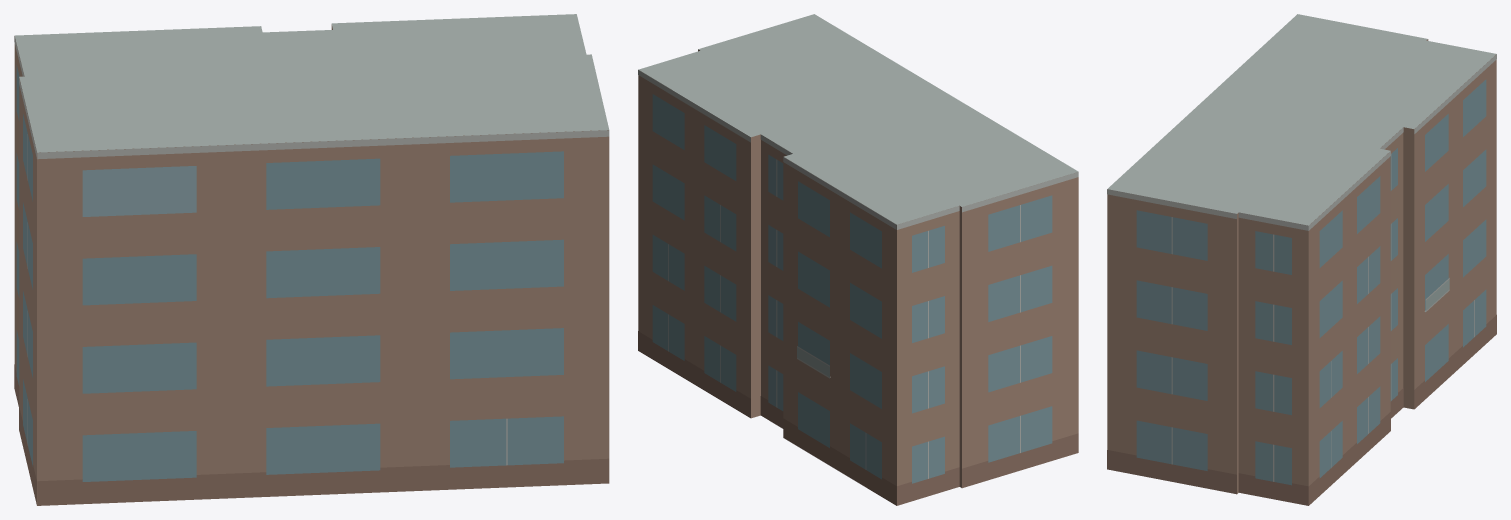
The model's file is survey-upis-32658803.glb.
3 views of the same model, side by side, from view 1: azimuth 30°, elevation 25°; view 2: azimuth 150°, elevation 25°; view 3: azimuth 270°, elevation 25° (orthographic). The views are drawn at different scales.
Parts seen in each view (by area): view 1: survey-upis-32658803.tmp; view 2: survey-upis-32658803.tmp; view 3: survey-upis-32658803.tmp.
Part boxes in pixels (left/top/right/bottom): survey-upis-32658803.tmp: left=14, top=14, right=609, bottom=505; survey-upis-32658803.tmp: left=638, top=14, right=1078, bottom=505; survey-upis-32658803.tmp: left=1107, top=14, right=1496, bottom=505.
Size of the model in its own units: 20.9 by 12.9 by 16.26.
